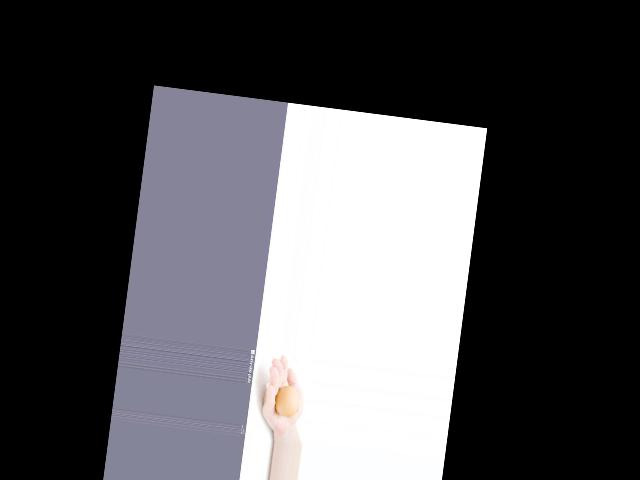egg: (273, 385, 302, 419)
